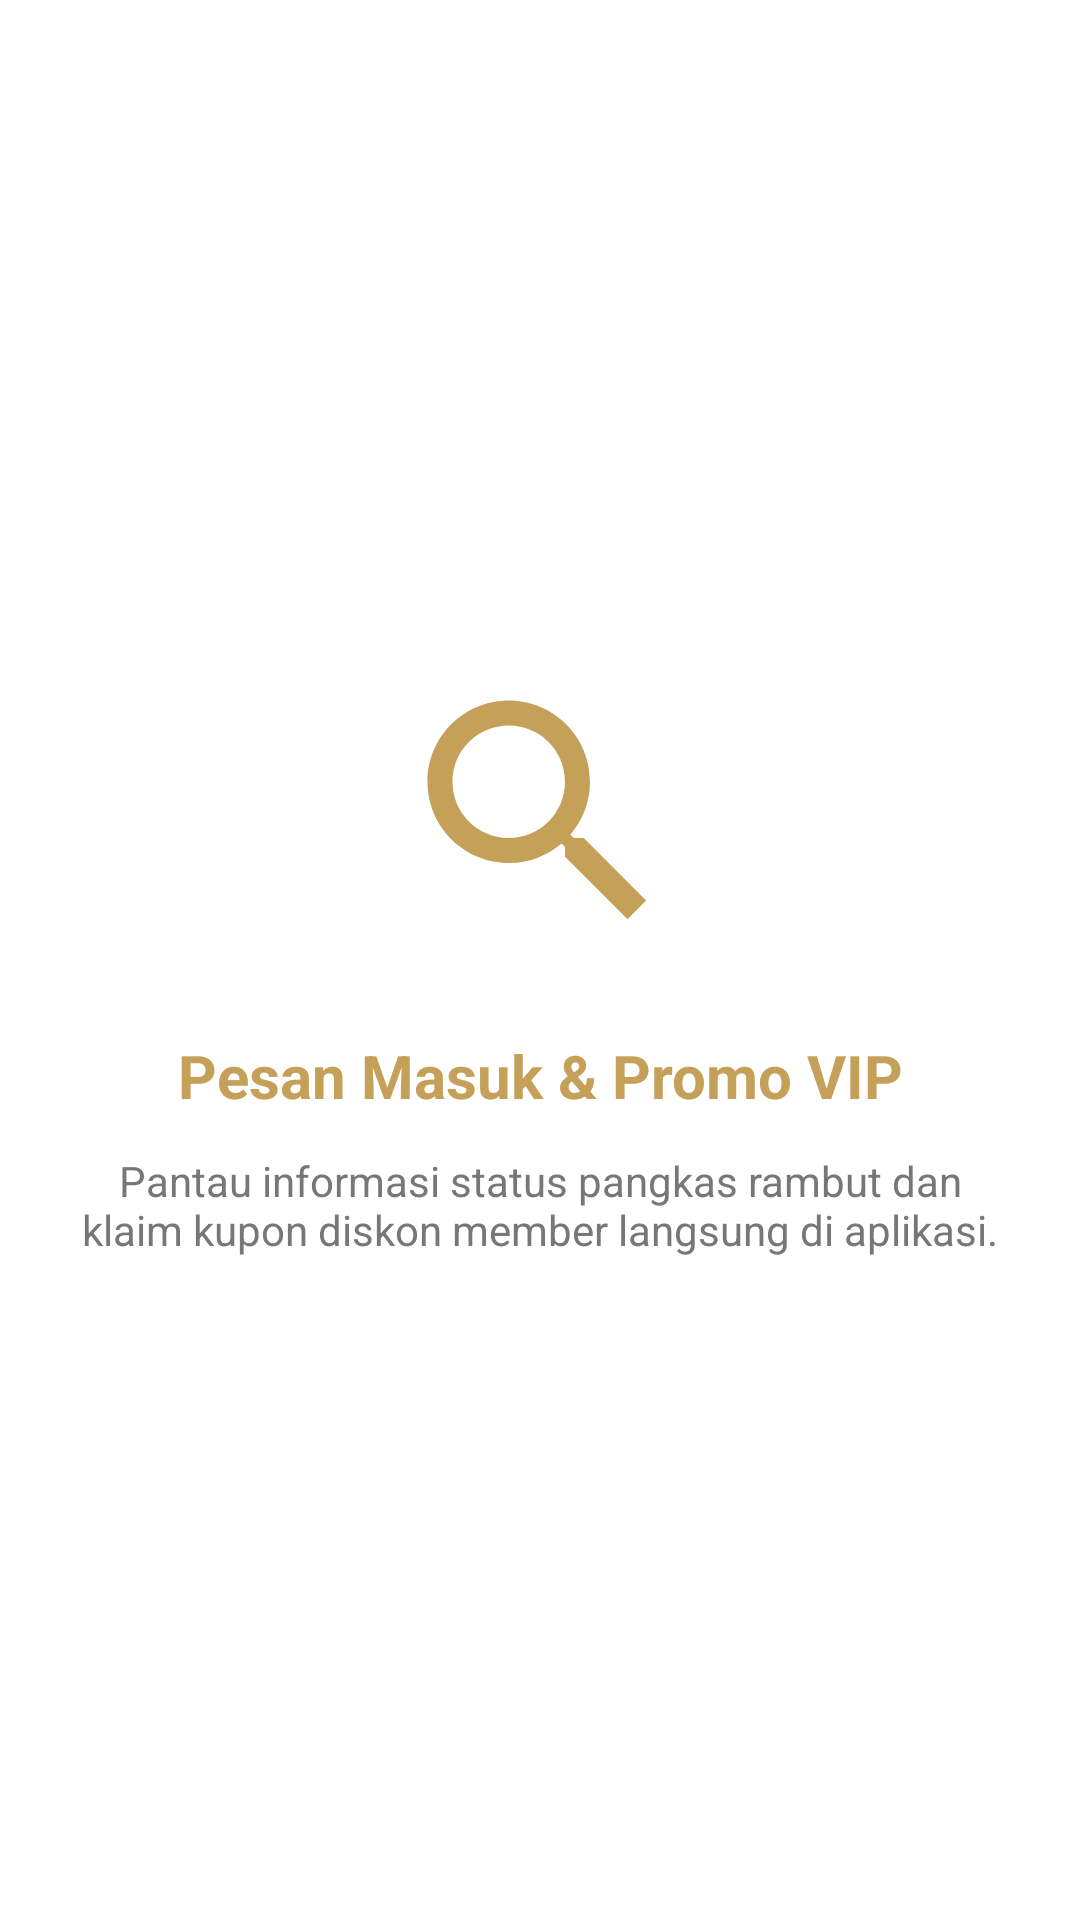

Point at icon controls on the screen. Image size 1080px x 1920px, points as [x,y].
search: [536,809]
